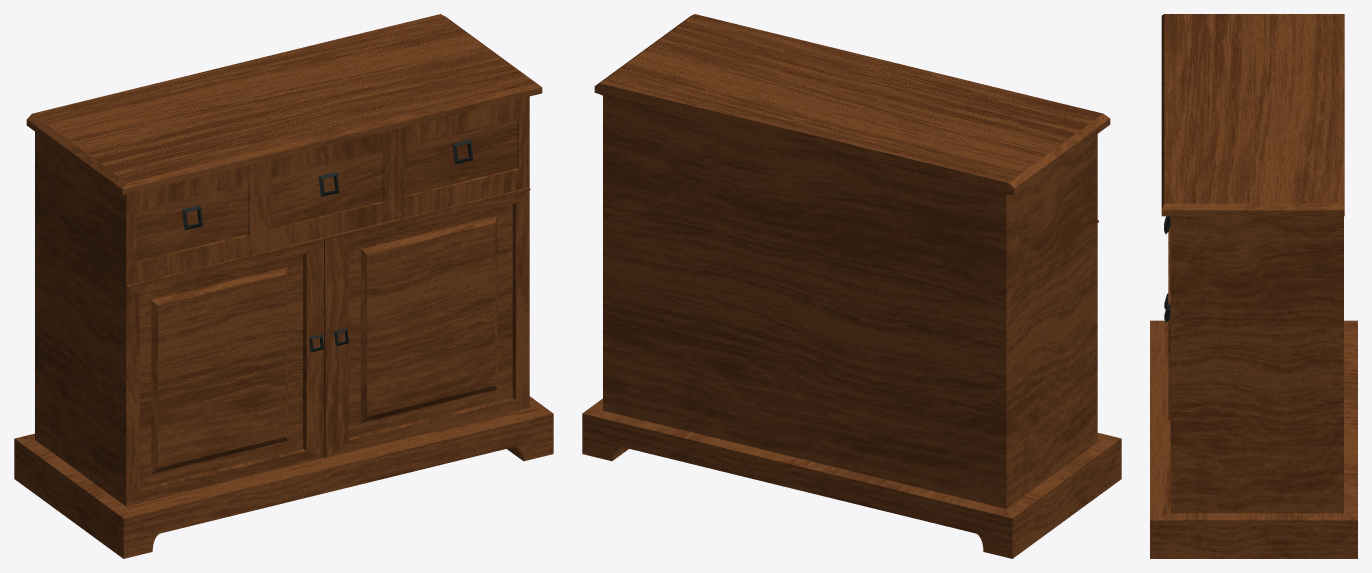
Rendered from sideboard.glb.
3 views of the same model, side by side, from view 1: azimuth 30°, elevation 25°; view 2: azimuth 150°, elevation 25°; view 3: azimuth 270°, elevation 25° (orthographic). The views are drawn at different scales.
Parts seen in each view (by area): view 1: Object_4; view 2: Object_4; view 3: Object_4.
Boxes of the visible parts, x1,y1,x2,y2 form: Object_4: [14, 14, 553, 558]; Object_4: [582, 14, 1121, 558]; Object_4: [1150, 14, 1357, 558].
Bounding box in the file's own units: 1.17 × 0.9581 × 0.515.
2 materials, 2 textured.
